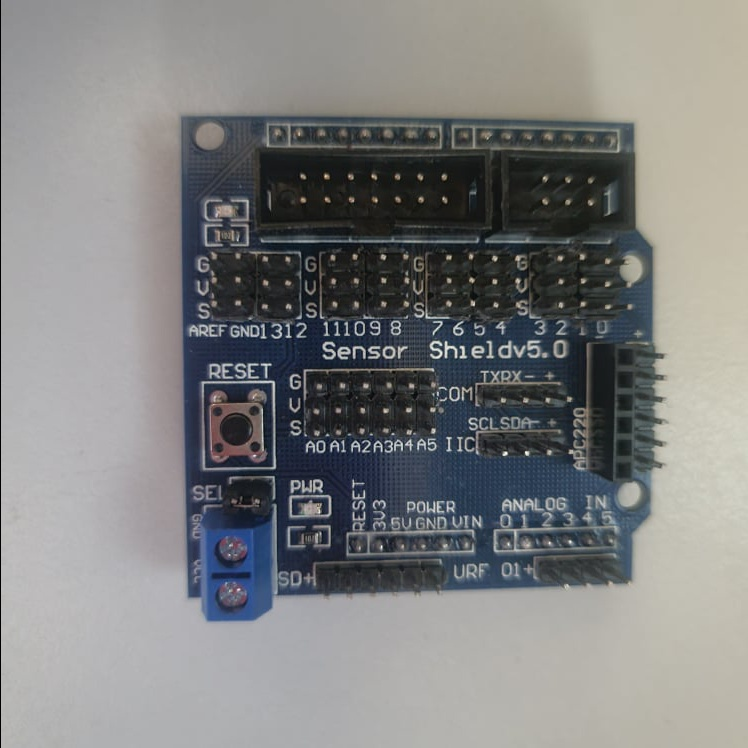5V EXPANSION: (182, 116, 663, 624)
